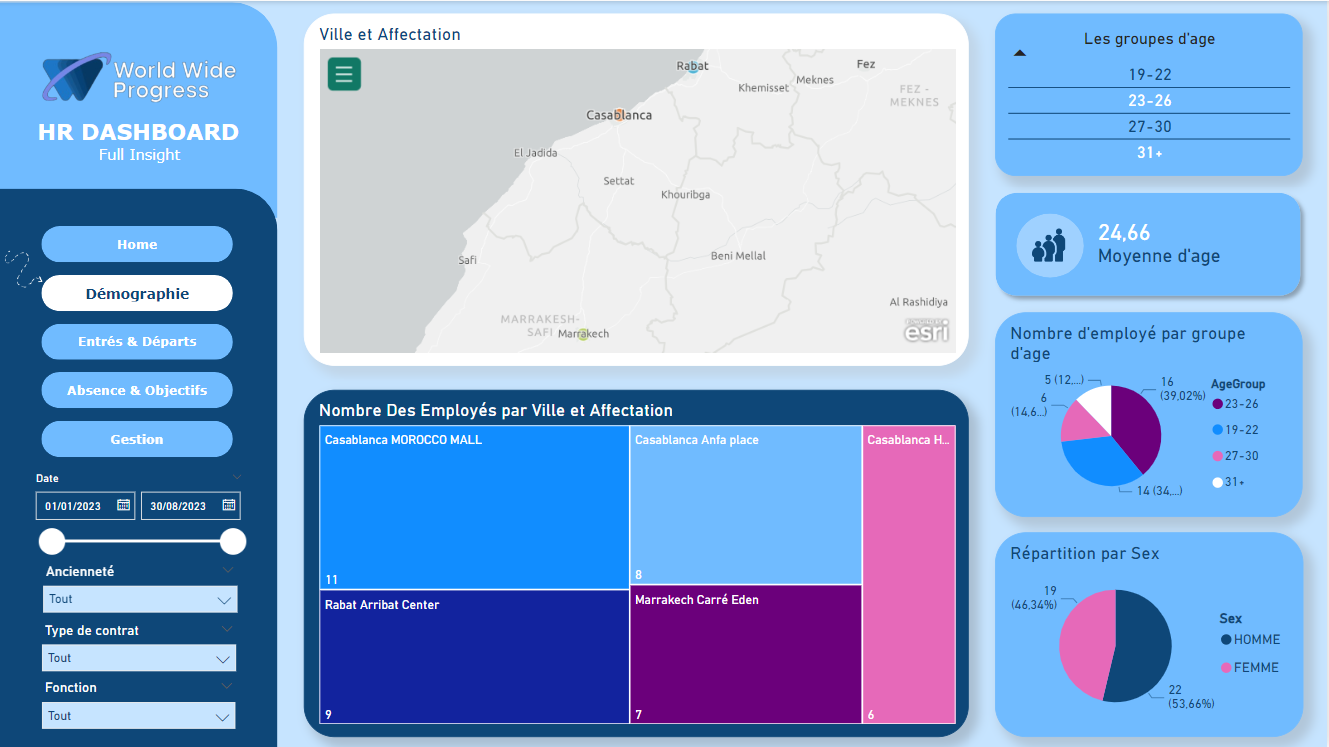

The page's visual inventory and layout, read from the dashboard file:
{"tool":"powerbi","page":{"name":"Démographie","canvas":[1280,720],"ordinal":1},"visuals":[{"type":"shape","box":[0,1.4,267.7,208.2],"z":0},{"type":"shape","box":[0,180.5,267.7,539.5],"z":1000},{"type":"actionButton","box":[29.7,47.3,208.2,56.8],"z":2000},{"type":"textbox","box":[14.9,106.8,238,40.6],"z":3000},{"type":"textbox","box":[46,133.9,177.1,35.2],"z":4000},{"type":"image","box":[0,222.9,45.8,71.2],"z":5000},{"type":"slicer","fields":{"Values":["DATE.Date"]},"box":[21.7,448.6,224.3,101.3],"z":6000},{"type":"pieChart","title":"Nombre d''employé par groupe d''age","fields":{"Category":["EMP (2).AgeGroup"],"Y":["CountNonNull(EMP (2).EmpID)"]},"box":[960,300.3,296.7,197.8],"z":7000},{"type":"treemap","fields":{"Group":["AFFECTATIONS.Ville","AFFECTATIONS.Affectation"],"Values":["EMP (2).Nombre Des Employés Actuels 2"]},"box":[293.1,375.1,641.6,335.3],"z":8000},{"type":"tableEx","fields":{"Values":["EMP (2).AgeGroup"]},"box":[960,12.1,296.7,156.8],"z":9000},{"type":"shape","box":[951.6,176.3,312,117.2],"z":9000,"group":"g2"},{"type":"group","id":"g1","title":"Groupe 1","box":[951.6,176.3,312,116],"z":10000},{"type":"multiRowCard","fields":{"Values":["EMP (2).Moyenne D'Age"]},"box":[1053.9,206.3,198,71.3],"z":10000,"group":"g2"},{"type":"slicer","fields":{"Values":["CONTRATS.Type de contrat"]},"box":[30.2,594.6,207.4,61.5],"z":11000},{"type":"shape","box":[980.6,205.3,65.3,62.1],"z":12000,"group":"g2"},{"type":"pieChart","fields":{"Category":["EMP (2).Sex"],"Y":["CountNonNull(EMP (2).EmpID)"]},"box":[960,512.6,297.9,197.8],"z":12000},{"type":"slicer","fields":{"Values":["FONCTIONS.Fonction "]},"box":[30,650.1,207,61],"z":13000},{"type":"image","box":[980.2,214.4,63,42.2],"z":13001,"group":"g2"},{"type":"esriVisual","fields":{"Color":["AFFECTATIONS.Affectation"],"Location":["AFFECTATIONS.Ville"]},"box":[293.1,12.1,641.6,340.1],"z":14000},{"type":"group","id":"g2","title":"Groupe 2","box":[951.6,176.3,312,116],"z":14002,"group":"g1"},{"type":"pageNavigator","box":[39.8,216.9,185.7,223.1],"z":15000},{"type":"slicer","fields":{"Values":["EMP.Ancienneté"]},"box":[31.4,537.9,207.4,61.5],"z":16000}]}

Visuals, with their boxes in screenshot pixels (x1, y1, x2, y2), scaled from the page's 1280x720 canvas onto the 1329x747 screenshot:
shape: select_region(0, 1, 278, 217)
shape: select_region(0, 187, 278, 746)
actionButton: select_region(31, 49, 247, 108)
textbox: select_region(15, 111, 263, 153)
textbox: select_region(48, 139, 232, 175)
image: select_region(0, 231, 48, 305)
slicer - DATE.Date: select_region(23, 465, 255, 571)
"Nombre d''employé par groupe d''age" pieChart: select_region(997, 312, 1305, 517)
treemap - AFFECTATIONS.Ville x AFFECTATIONS.Affectation: select_region(304, 389, 970, 737)
tableEx - EMP (2).AgeGroup: select_region(997, 13, 1305, 175)
shape: select_region(988, 183, 1312, 305)
"Groupe 1" group: select_region(988, 183, 1312, 303)
multiRowCard - EMP (2).Moyenne D'Age: select_region(1094, 214, 1300, 288)
slicer - CONTRATS.Type de contrat: select_region(31, 617, 247, 681)
shape: select_region(1018, 213, 1086, 277)
pieChart - EMP (2).Sex x CountNonNull(EMP (2).EmpID): select_region(997, 532, 1306, 737)
slicer - FONCTIONS.Fonction : select_region(31, 674, 246, 738)
image: select_region(1018, 222, 1083, 266)
esriVisual - AFFECTATIONS.Affectation x AFFECTATIONS.Ville: select_region(304, 13, 970, 365)
"Groupe 2" group: select_region(988, 183, 1312, 303)
pageNavigator: select_region(41, 225, 234, 457)
slicer - EMP.Ancienneté: select_region(33, 558, 248, 622)
